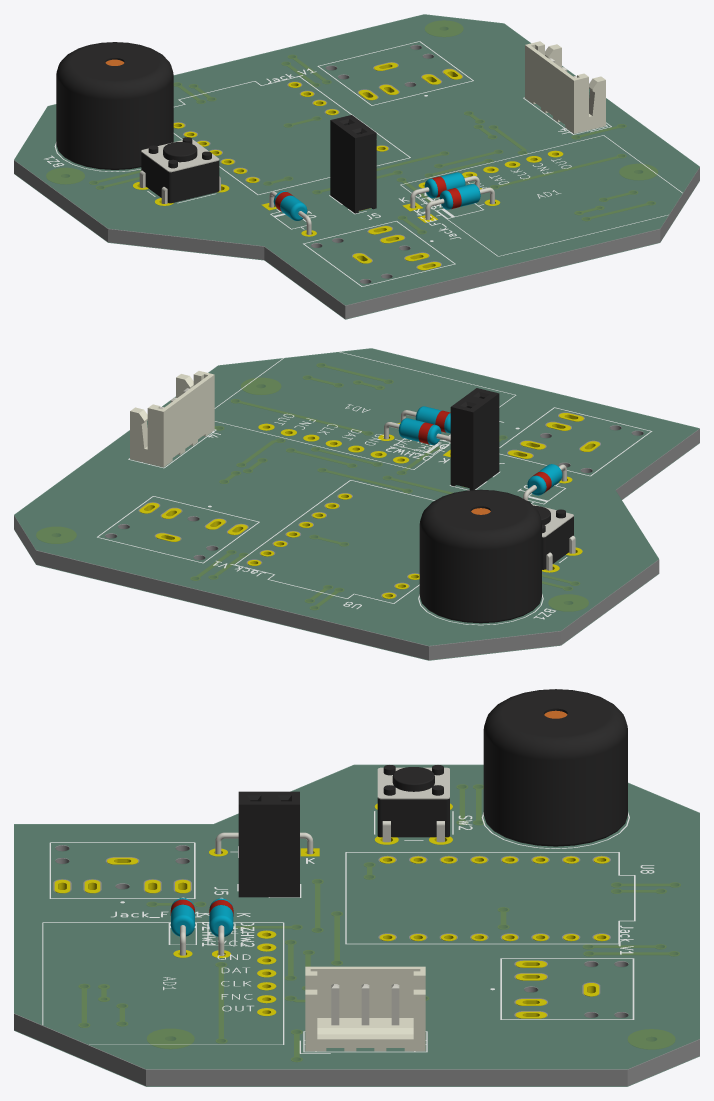
File: chidori-pcb.glb
The picture shows the model from 3 angles, top to bottom: view 1: azimuth 30°, elevation 25°; view 2: azimuth 150°, elevation 25°; view 3: azimuth 270°, elevation 25°; orthographic projection. The views are drawn at different scales.
Visible parts, largest first — view 1: =>[0:1:1:14], =>[0:1:1:15], BZ1, =>[0:1:1:12], J4, J5, =>[0:1:1:13], DZHW1; view 2: =>[0:1:1:14], =>[0:1:1:15], BZ1, =>[0:1:1:12], J4, J5, =>[0:1:1:13], DZHW1; view 3: =>[0:1:1:14], =>[0:1:1:15], BZ1, =>[0:1:1:12], J4, J5, =>[0:1:1:13], DZHW1.
Part boxes in pixels (<box>): =>[0:1:1:14]: <box>14,14,699,319</box>; =>[0:1:1:15]: <box>14,15,699,319</box>; BZ1: <box>56,42,494,234</box>; =>[0:1:1:12]: <box>46,21,657,270</box>; J4: <box>525,41,605,133</box>; J5: <box>330,115,376,213</box>; =>[0:1:1:13]: <box>44,41,682,286</box>; DZHW1: <box>273,172,480,220</box>; =>[0:1:1:14]: <box>14,348,699,660</box>; =>[0:1:1:15]: <box>14,349,699,660</box>; BZ1: <box>384,410,575,623</box>; =>[0:1:1:12]: <box>36,363,599,610</box>; J4: <box>130,371,214,467</box>; J5: <box>450,388,499,490</box>; =>[0:1:1:13]: <box>97,351,652,625</box>; DZHW1: <box>398,406,562,495</box>; =>[0:1:1:14]: <box>14,764,699,1086</box>; =>[0:1:1:15]: <box>14,766,699,1086</box>; BZ1: <box>180,689,627,955</box>; =>[0:1:1:12]: <box>54,785,680,1061</box>; J4: <box>305,966,425,1051</box>; J5: <box>238,791,299,897</box>; =>[0:1:1:13]: <box>42,811,654,1053</box>; DZHW1: <box>170,898,233,936</box>.
Size of the model in its own units: 0.0599 by 0.013 by 0.057.
